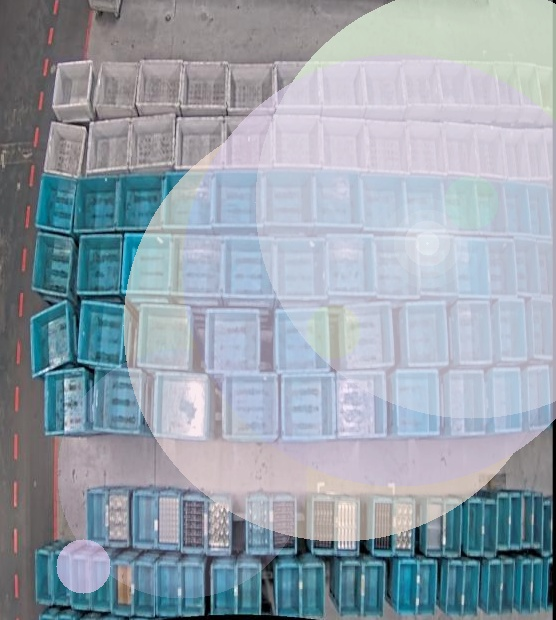Box: (135, 303, 193, 372), (274, 305, 331, 372), (152, 373, 208, 439), (341, 301, 393, 372), (282, 372, 335, 441), (222, 374, 277, 440), (93, 363, 144, 434), (205, 308, 259, 375), (76, 301, 128, 369), (29, 299, 72, 381), (170, 234, 224, 299), (74, 230, 123, 300), (42, 367, 90, 437), (274, 238, 329, 299), (221, 238, 276, 299), (120, 233, 173, 296), (264, 167, 315, 232), (336, 372, 385, 438), (212, 168, 264, 229), (71, 174, 121, 237), (84, 118, 133, 181), (328, 233, 375, 298), (372, 235, 419, 299), (403, 301, 448, 367), (31, 232, 75, 299), (129, 113, 175, 177), (313, 171, 362, 231), (164, 170, 213, 230), (117, 173, 166, 233), (396, 369, 439, 437), (175, 117, 225, 173), (135, 59, 184, 116), (274, 113, 322, 170), (34, 174, 78, 236), (362, 171, 407, 231), (93, 58, 138, 118), (416, 235, 458, 299), (42, 121, 87, 180), (225, 113, 272, 169), (181, 59, 227, 116), (227, 59, 274, 113), (323, 117, 367, 174), (320, 59, 364, 116), (53, 61, 93, 122), (448, 372, 485, 437), (363, 60, 405, 117), (275, 58, 321, 110), (403, 58, 441, 120), (455, 300, 491, 364), (367, 118, 408, 174), (406, 123, 446, 176), (406, 176, 444, 230), (456, 238, 489, 300), (496, 298, 527, 363), (442, 123, 480, 176), (490, 369, 521, 433), (443, 177, 478, 232), (468, 62, 499, 123), (439, 60, 470, 120), (475, 125, 507, 180), (476, 178, 507, 234), (525, 366, 551, 432), (496, 61, 523, 122), (488, 239, 517, 295), (132, 488, 157, 552), (504, 178, 532, 234), (107, 483, 131, 547), (206, 494, 231, 555), (517, 63, 542, 123), (272, 494, 296, 555), (179, 562, 205, 618), (335, 498, 360, 556), (311, 494, 336, 552), (246, 494, 270, 554), (523, 127, 549, 182), (180, 495, 204, 554), (372, 495, 395, 556), (502, 128, 530, 178), (157, 490, 180, 550), (515, 240, 540, 295), (86, 489, 109, 548), (235, 564, 262, 614), (301, 564, 325, 620), (339, 562, 364, 615), (531, 296, 552, 359), (394, 496, 416, 556), (156, 562, 179, 619), (276, 562, 300, 616), (441, 498, 462, 559), (133, 563, 155, 618), (111, 561, 133, 616), (211, 565, 235, 615), (398, 561, 420, 615), (363, 563, 385, 617), (423, 497, 443, 556), (416, 561, 437, 615), (529, 184, 550, 238), (461, 562, 480, 618), (91, 558, 111, 611), (446, 560, 464, 617), (53, 550, 71, 605), (33, 550, 51, 605), (481, 497, 497, 558), (71, 556, 89, 609), (486, 559, 503, 615), (499, 560, 515, 618), (495, 491, 510, 551), (537, 66, 552, 126), (537, 241, 553, 297), (466, 499, 481, 557), (518, 560, 532, 616), (540, 496, 553, 556), (530, 559, 543, 614), (519, 491, 531, 550), (509, 491, 520, 551), (530, 493, 542, 545), (544, 557, 553, 611)
